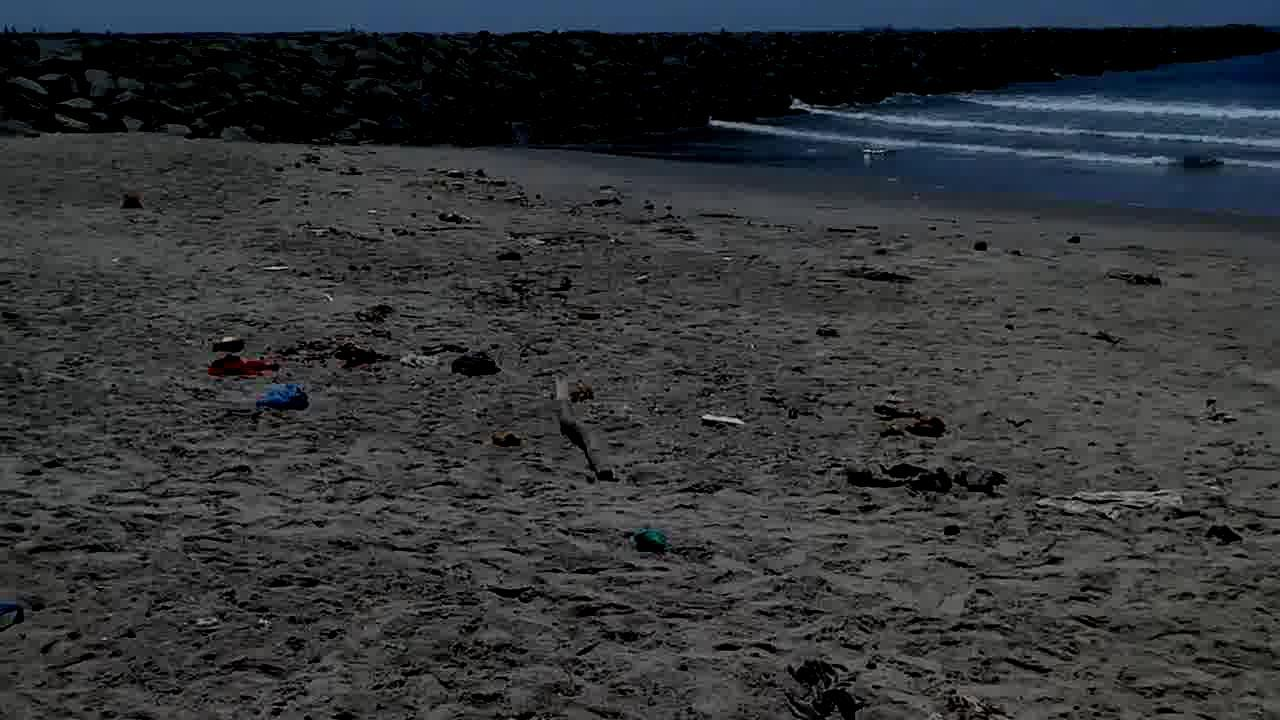obj: (550, 370, 615, 480), (836, 465, 1008, 495), (210, 355, 274, 377), (261, 384, 311, 409), (452, 352, 498, 373), (634, 532, 670, 556)
sand/background: (0, 0, 1279, 233)
